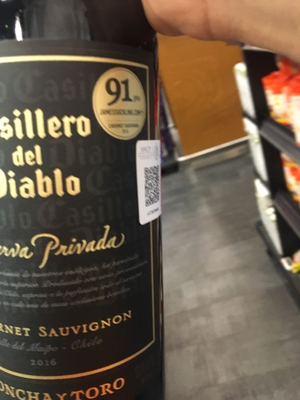casillero del diablo reserva privada cabernet sauvignon: (2, 16, 172, 400)
